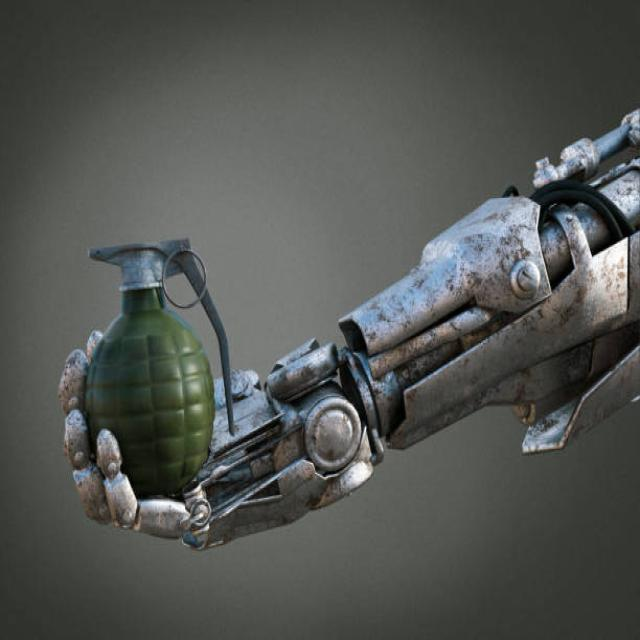grenade: (77, 232, 240, 506)
